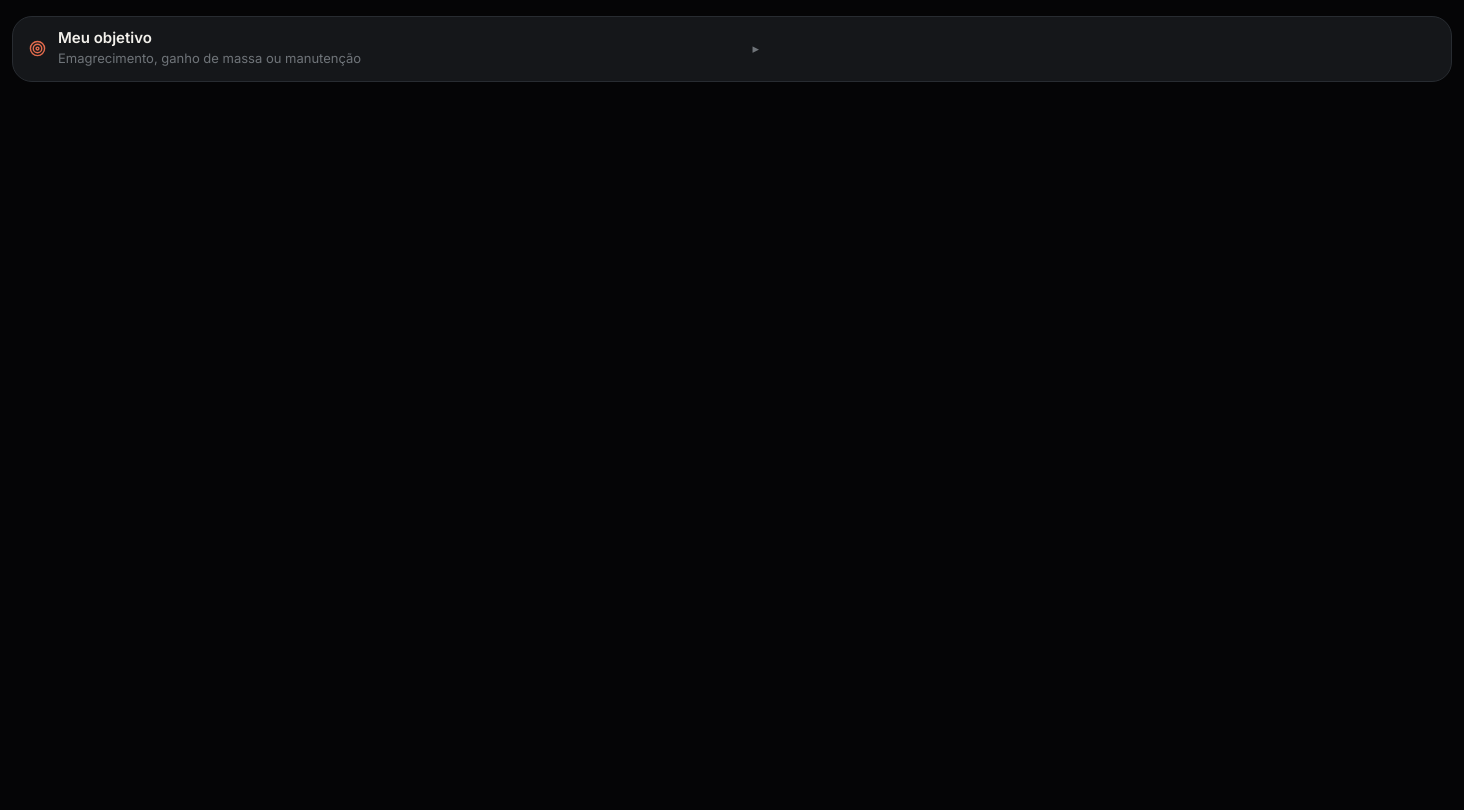
Scenario: o ritmo avancado mostra o aviso ao ser escolhido
The width and height of the screenshot is (1464, 810).
Click the button with test id "abrir-objetivo".
click(105, 38)  # box [13, 17, 1451, 80]
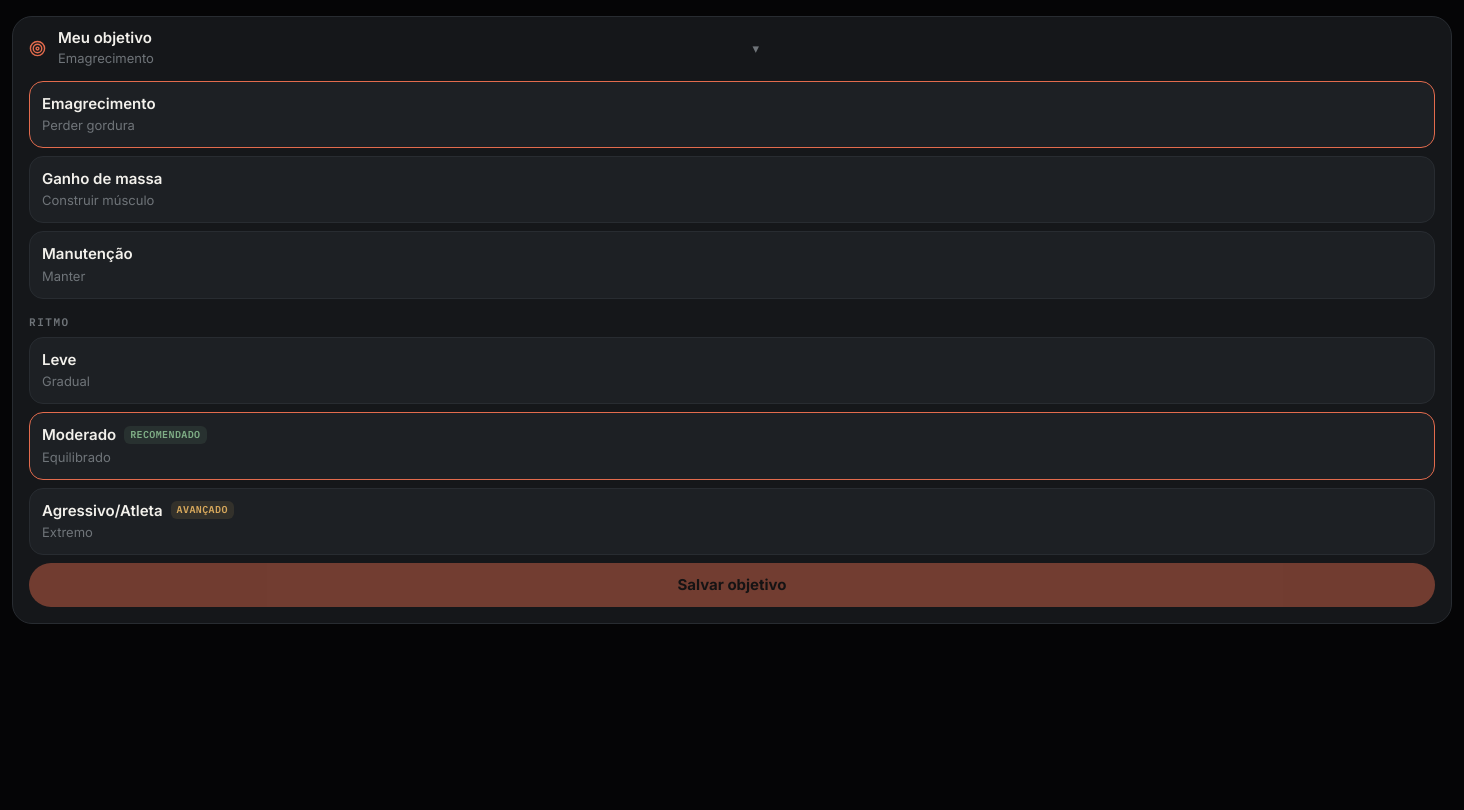
Click the button with test id "ritmo-agressivo".
click(102, 510)  # box [29, 488, 1435, 555]
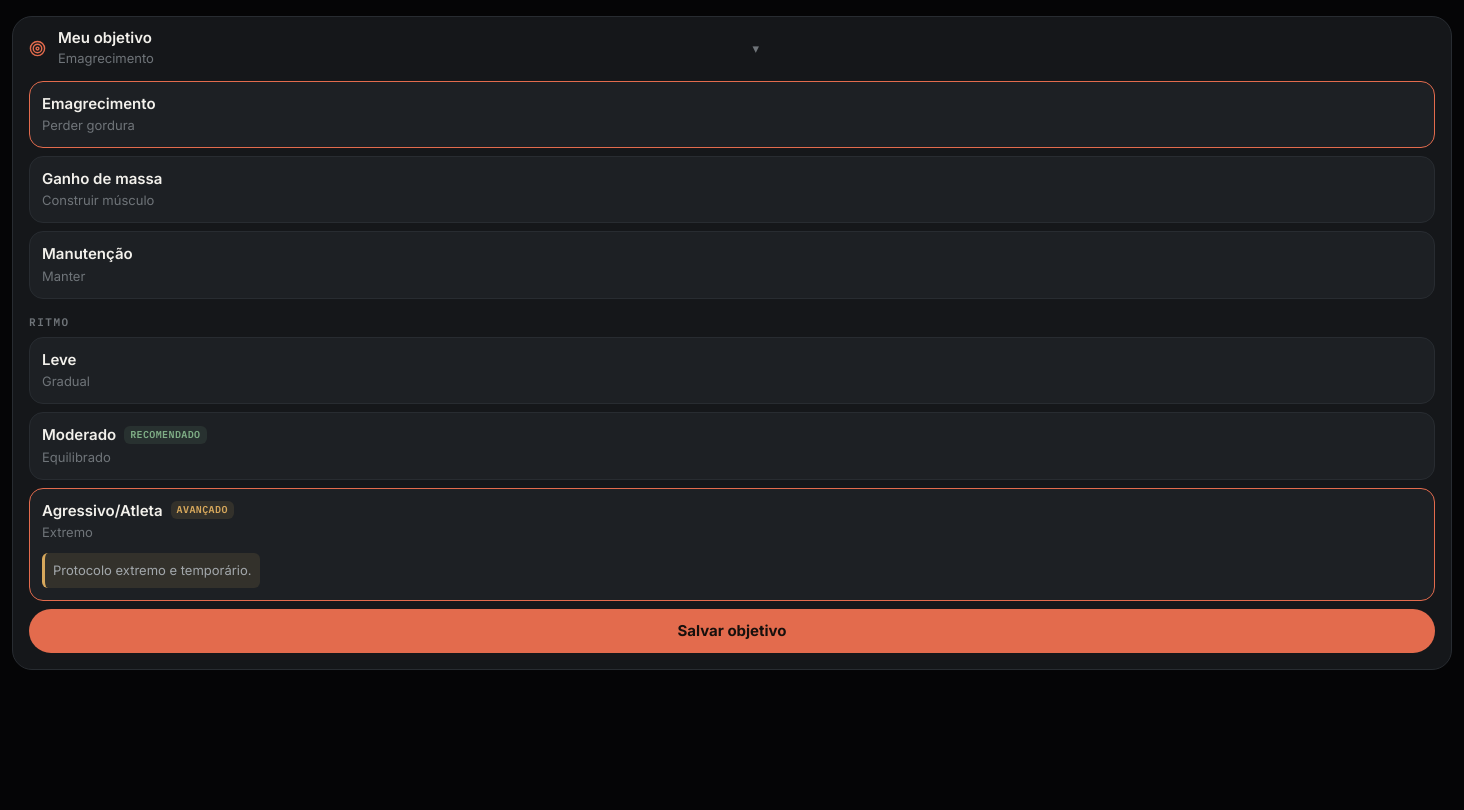
Check: the text "Protocolo extremo" is shown, box [53, 562, 252, 578]
